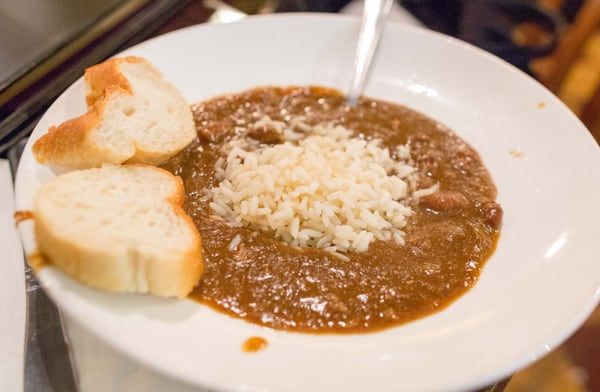salad: (175, 85, 503, 334)
